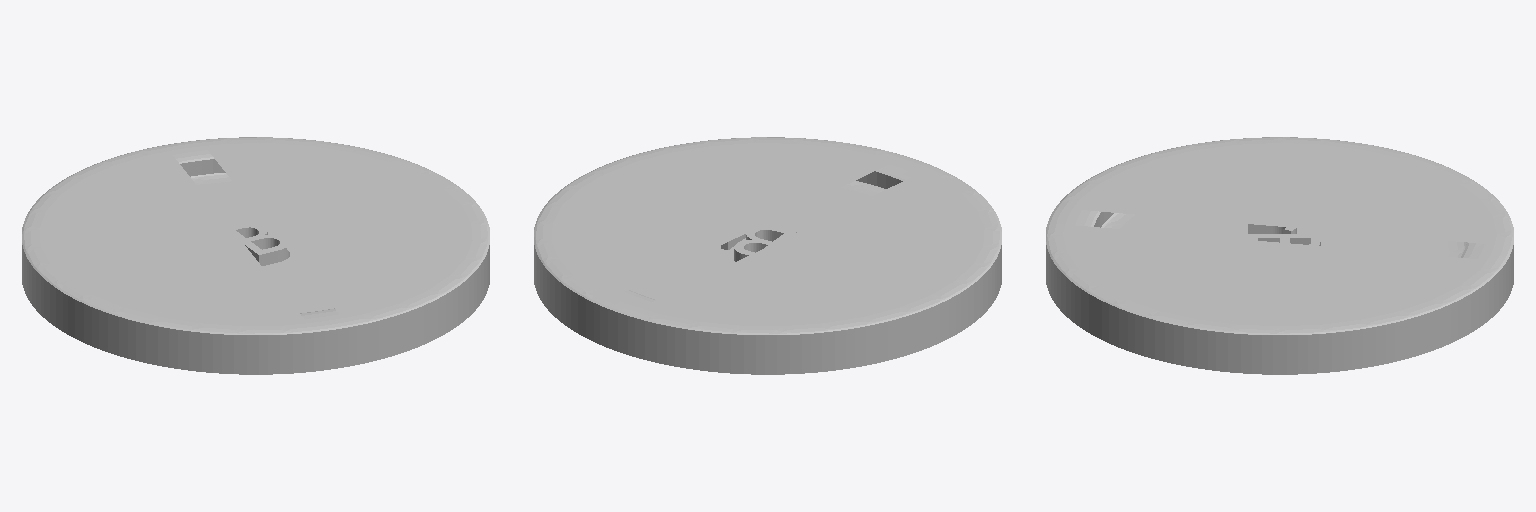
Rendered from coin.obj.
3 views of the same model, side by side, from view 1: azimuth 30°, elevation 25°; view 2: azimuth 150°, elevation 25°; view 3: azimuth 270°, elevation 25° (orthographic).
Parts seen in each view (by area): view 1: Text; view 2: Text; view 3: Text.
Part boxes in pixels (bbox=[...]): Text: bbox=[22, 137, 489, 374]; Text: bbox=[534, 137, 1001, 374]; Text: bbox=[1046, 137, 1513, 374].
Bounding box in the file's own units: 2.98 × 0.3 × 2.98.